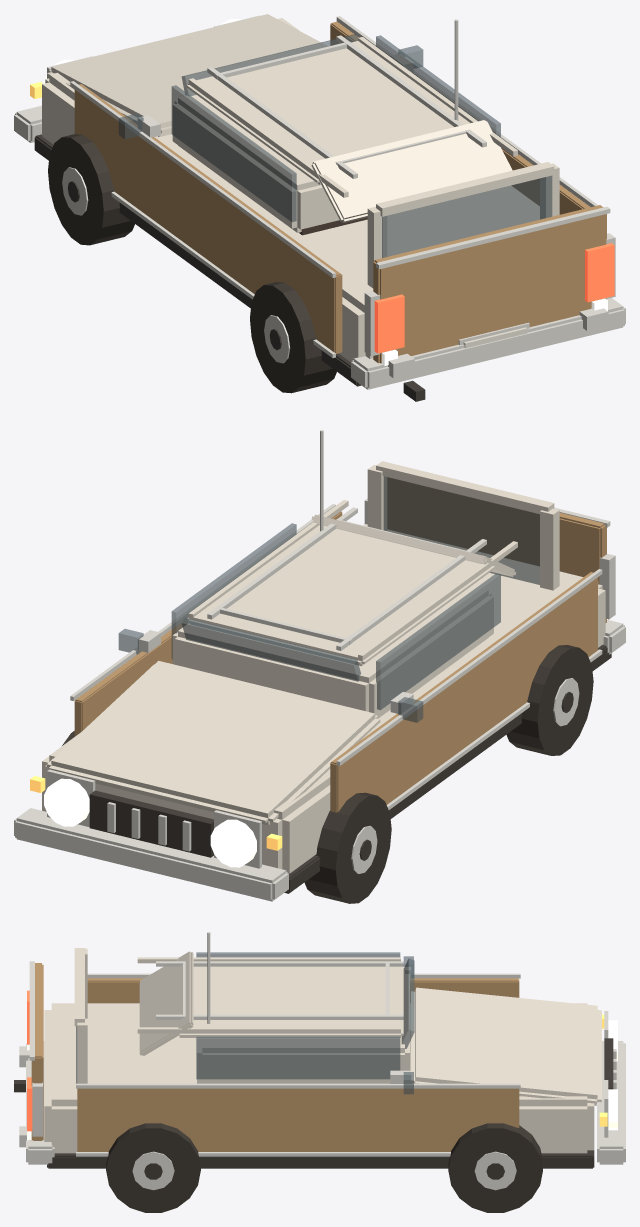
File: wagon.glb
3 renders of one model, top to bottom at view 1: azimuth 30°, elevation 25°; view 2: azimuth 150°, elevation 25°; view 3: azimuth 270°, elevation 25°, orthographic. The views are drawn at different scales.
Visible parts, largest first — view 1: TailWood, Wood_R, Roof, Body, Hood, RearSlope, Cabin, RearGlass, SideGlass_R, Wheel_FR, Wheel_RR, Bumper_B (+24 smaller); view 2: Hood, Roof, Wood_R, Cabin, Body, TailWood, RearGlass, Bumper_F, SideGlass_R, Wheel_FR, Wheel_RR, Grille (+22 smaller); view 3: Wood_L, Hood, Body, Roof, Cabin, SideGlass_L, Wheel_FL, Wheel_RL, Skirt, RearSlope, Wood_R, ChromeHi_L (+19 smaller).
Boxes of the visible parts, box(x1,y1,x2,y2) form: TailWood: box(373, 205, 606, 363); Wood_R: box(74, 84, 342, 353); Roof: box(187, 41, 470, 184); Body: box(42, 18, 539, 361); Hood: box(47, 14, 327, 136); RearSlope: box(311, 120, 512, 222); Cabin: box(172, 94, 339, 232); RearGlass: box(382, 175, 552, 257); SideGlass_R: box(171, 85, 296, 221); Wheel_FR: box(48, 134, 134, 245); Wheel_RR: box(250, 282, 336, 393); Bumper_B: box(351, 298, 625, 389); Hood: box(47, 660, 380, 825); Roof: box(187, 525, 494, 666); Wood_R: box(330, 572, 597, 812); Cabin: box(172, 586, 493, 718); Body: box(42, 524, 605, 873); TailWood: box(387, 477, 606, 622); RearGlass: box(383, 476, 539, 584); Bumper_F: box(14, 808, 288, 901); SideGlass_R: box(376, 573, 500, 709); Wheel_FR: box(304, 792, 391, 903); Wheel_RR: box(506, 645, 593, 755); Grille: box(89, 790, 213, 857); Wood_L: box(77, 1088, 519, 1151); Hood: box(410, 987, 601, 1105); Body: box(44, 1003, 594, 1153); Roof: box(177, 966, 403, 1037); Cabin: box(197, 969, 409, 1083); SideGlass_L: box(196, 1036, 400, 1079); Wheel_FL: box(448, 1123, 542, 1212); Wheel_RL: box(106, 1123, 200, 1212); Skirt: box(47, 1150, 594, 1168); RearSlope: box(139, 951, 193, 1055); Wood_R: box(87, 978, 519, 1003); ChromeHi_L: box(76, 1083, 520, 1088).
Bounding box in the file's own units: 2.22 × 2.08 × 4.65.
